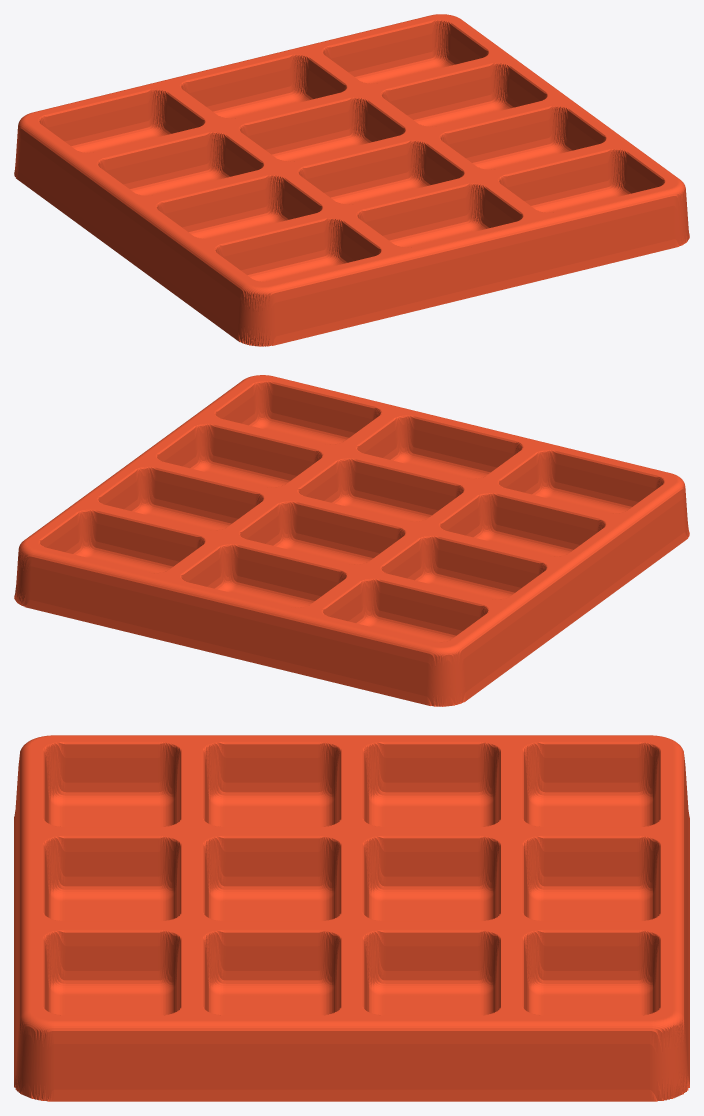
Rendered from mold.glb.
3 renders of one model, top to bottom at view 1: azimuth 30°, elevation 25°; view 2: azimuth 150°, elevation 25°; view 3: azimuth 270°, elevation 25°, orthographic. The views are drawn at different scales.
Parts seen in each view (by area): view 1: geometry_0; view 2: geometry_0; view 3: geometry_0.
Part boxes in pixels (x1,y1,x2,y2): geometry_0: (14,14,689,346); geometry_0: (14,375,689,706); geometry_0: (14,735,689,1101).
Bounding box in the file's own units: 0.1598 × 0.0185 × 0.1531.
